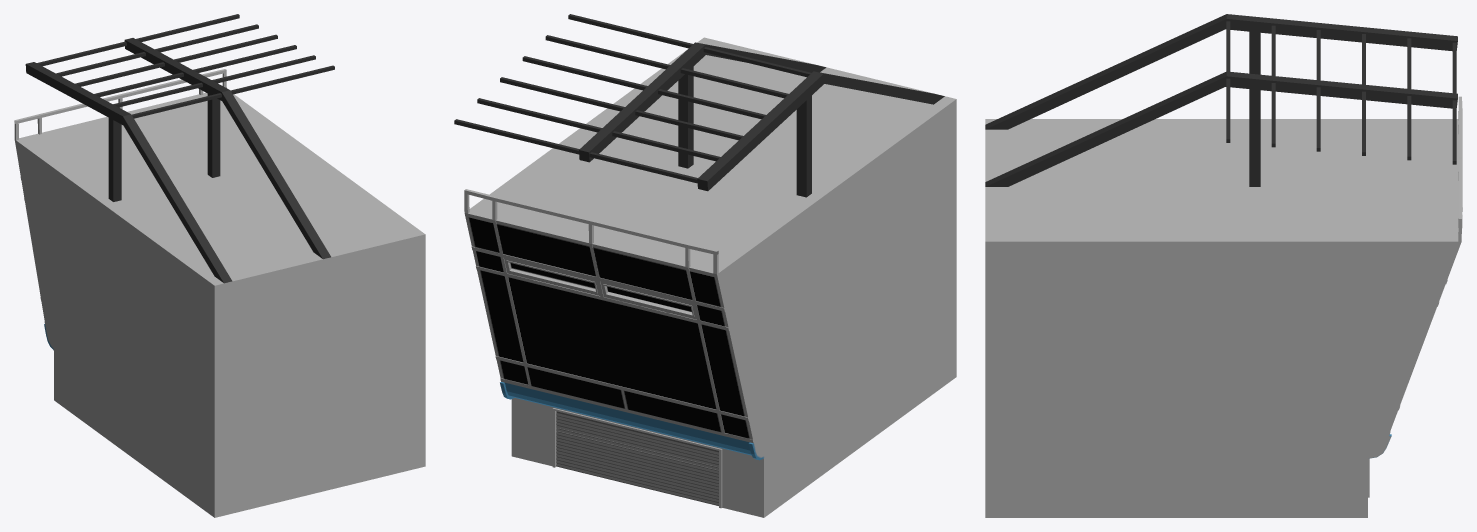
Rendered from pit building midlle.fbx.
The picture shows the model from 3 angles, left to right: view 1: azimuth 30°, elevation 25°; view 2: azimuth 150°, elevation 25°; view 3: azimuth 270°, elevation 25°; orthographic projection. The views are drawn at different scales.
Visible parts, largest first — view 1: pit building middle.001; view 2: pit building middle.001; view 3: pit building middle.001.
Part boxes in pixels (bbox=[...]): pit building middle.001: bbox=[14, 14, 425, 517]; pit building middle.001: bbox=[454, 14, 956, 517]; pit building middle.001: bbox=[985, 14, 1462, 517].
Bounding box in the file's own units: 1024 × 1436 × 1605.
